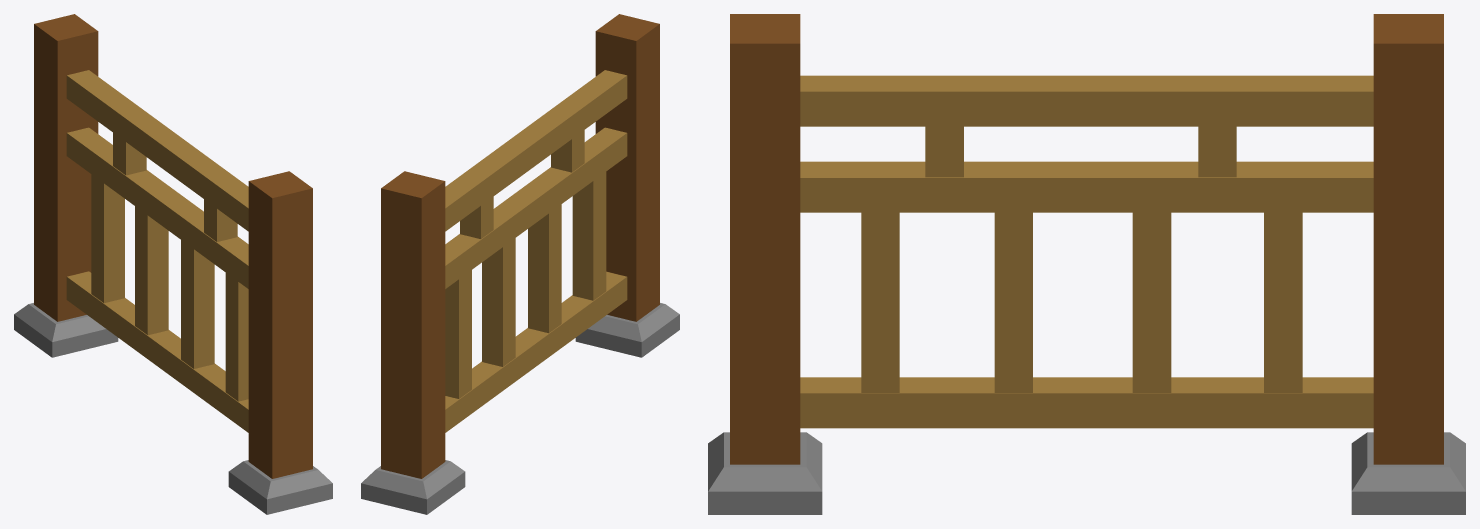
The model's file is MiniFence1.fbx.
3 views of the same model, side by side, from view 1: azimuth 30°, elevation 25°; view 2: azimuth 150°, elevation 25°; view 3: azimuth 270°, elevation 25° (orthographic). The views are drawn at different scales.
Parts seen in each view (by area): view 1: Cube.005; view 2: Cube.005; view 3: Cube.005.
Part boxes in pixels (left/top/right/bottom): Cube.005: left=14, top=14, right=332, bottom=514; Cube.005: left=361, top=14, right=679, bottom=514; Cube.005: left=708, top=14, right=1465, bottom=514.
Bounding box in the file's own units: 60.6 × 270 × 402.
